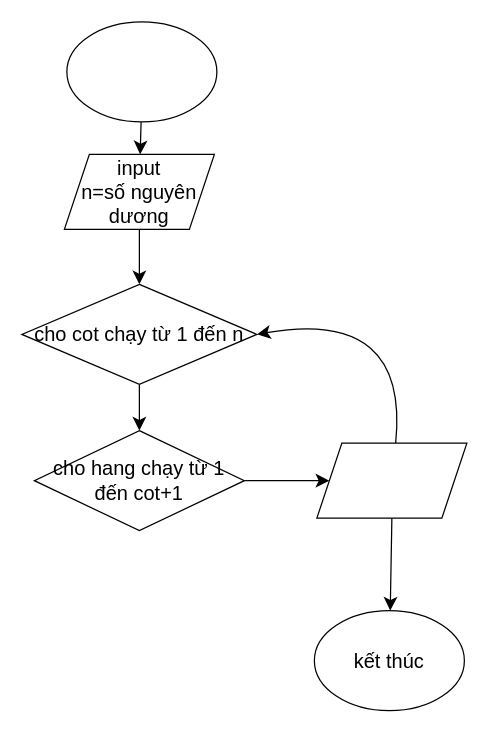
The diagram is 489 pixels wide and 733 high, and some of its shapes have lost their labels. The box of each missing label's shape, as (x1, y1, x2, y2) in pixels:
bắt đầu: (66, 21, 217, 122)
out put hang,end=' ': (316, 442, 467, 518)
